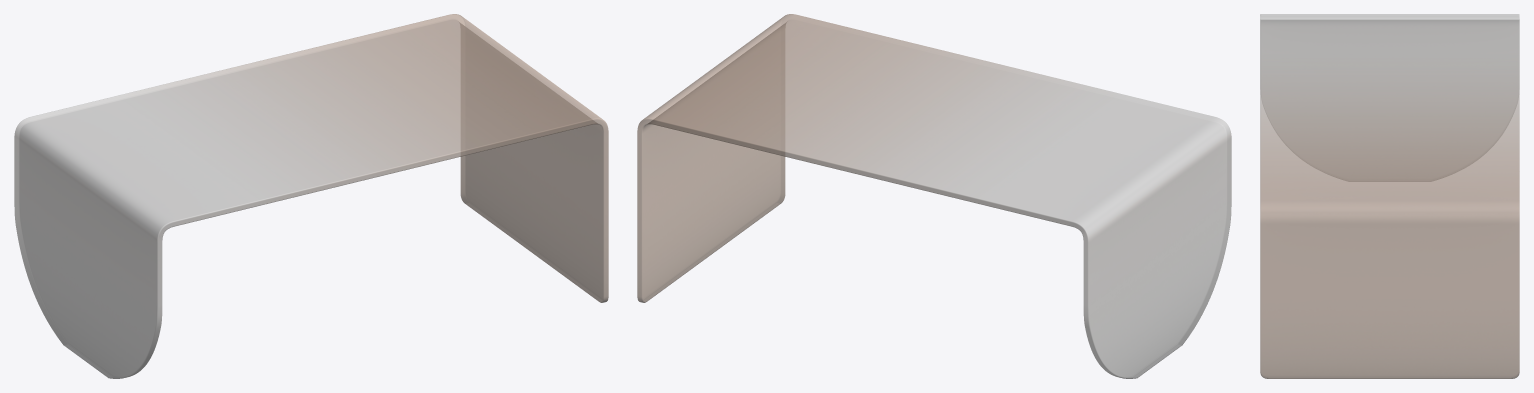
Rendered from younger_desk.glb.
3 renders of one model, left to right at view 1: azimuth 30°, elevation 25°; view 2: azimuth 150°, elevation 25°; view 3: azimuth 270°, elevation 25°, orthographic. The views are drawn at different scales.
Visible parts, largest first — view 1: Hesta_Coffee_Table; view 2: Hesta_Coffee_Table; view 3: Hesta_Coffee_Table.
Boxes of the visible parts, box(x1,y1,x2,y2) form: Hesta_Coffee_Table: box(14, 14, 608, 378); Hesta_Coffee_Table: box(637, 14, 1231, 378); Hesta_Coffee_Table: box(1260, 14, 1519, 378).
Size of what is drawn, in the model's own units: 100 by 40 by 55.
1 material, 1 textured.
